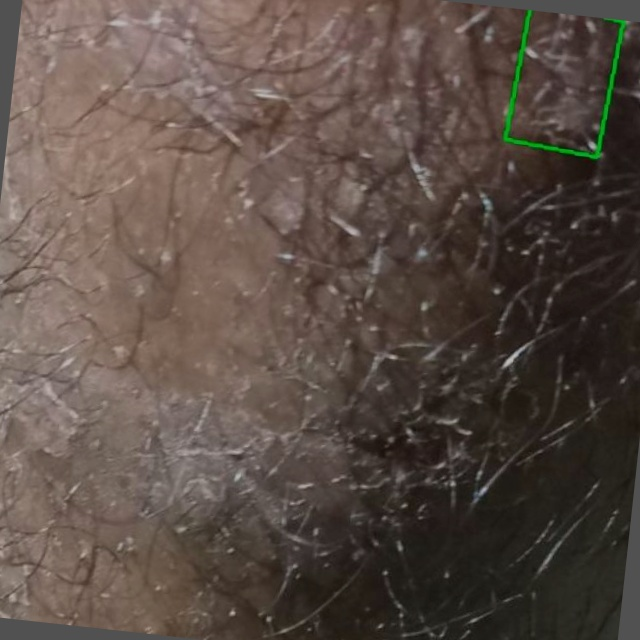Eczema: (505, 10, 624, 157)
